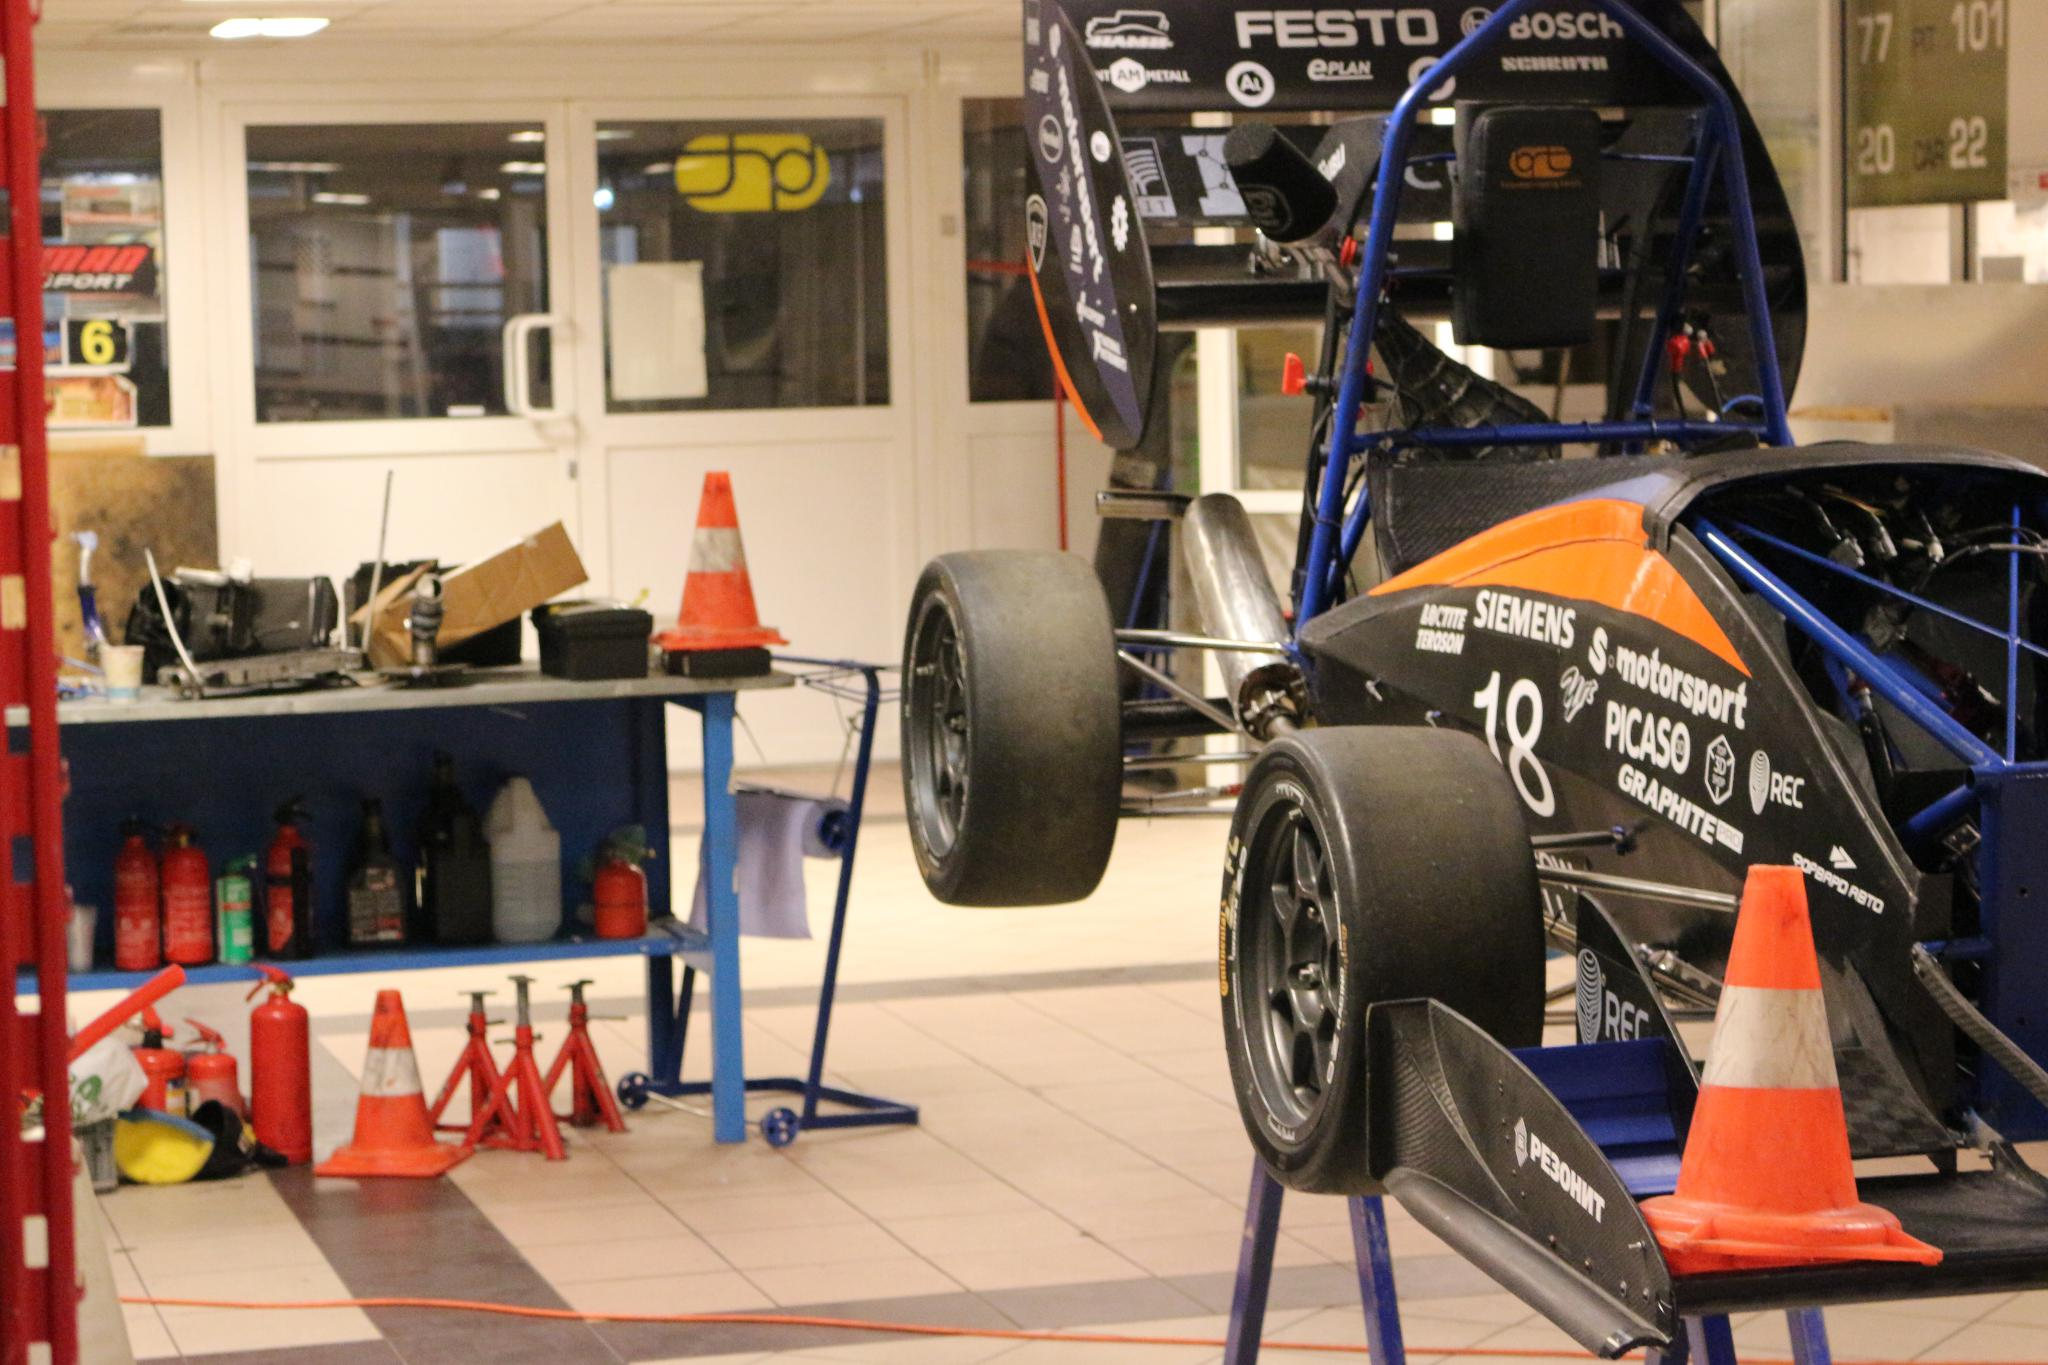Orange_Cone: (1611, 850, 1951, 1274), (301, 980, 480, 1181), (635, 457, 801, 654)
